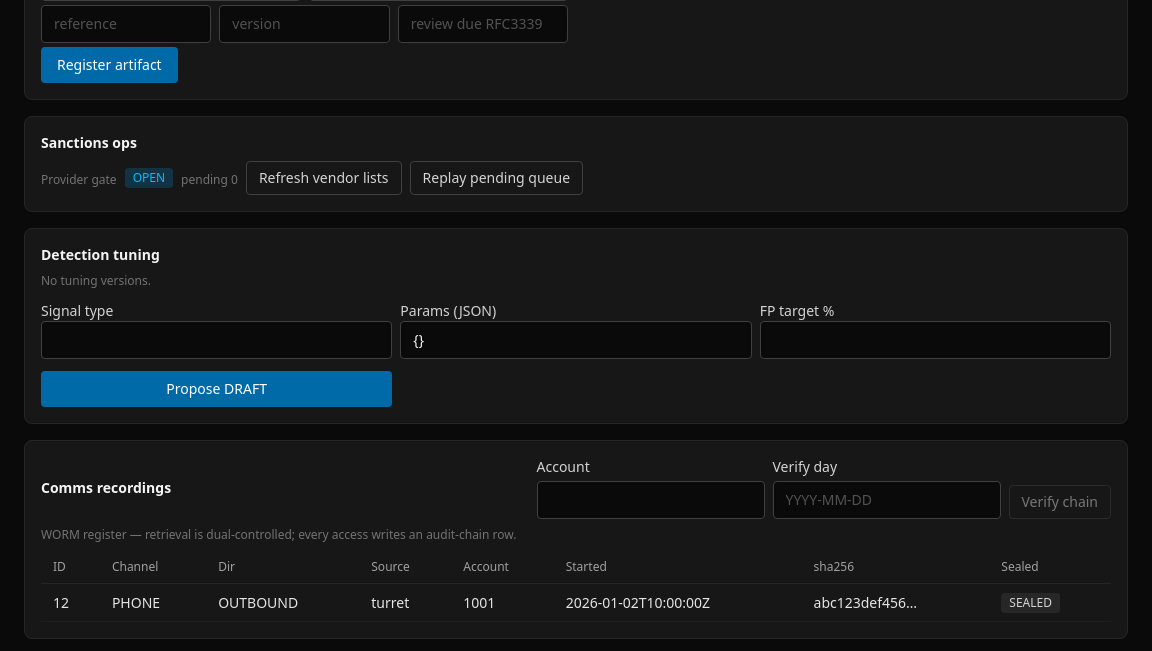
Test: CaseDeskPage › retrieves a comms recording under dual control
(page scrolled)
Click the text "PHONE" at (153, 602), box [100,584,206,622]
(page scrolled)
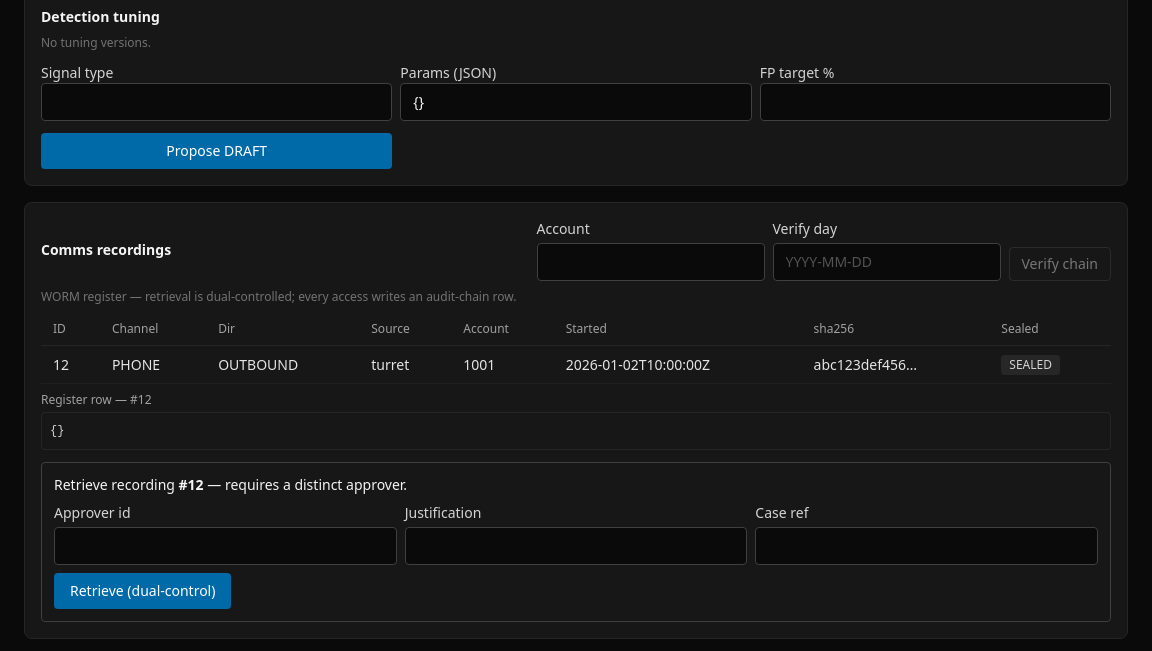
Type "77" into the field labelled "Approver id" at (225, 546), box [54,527,397,565]
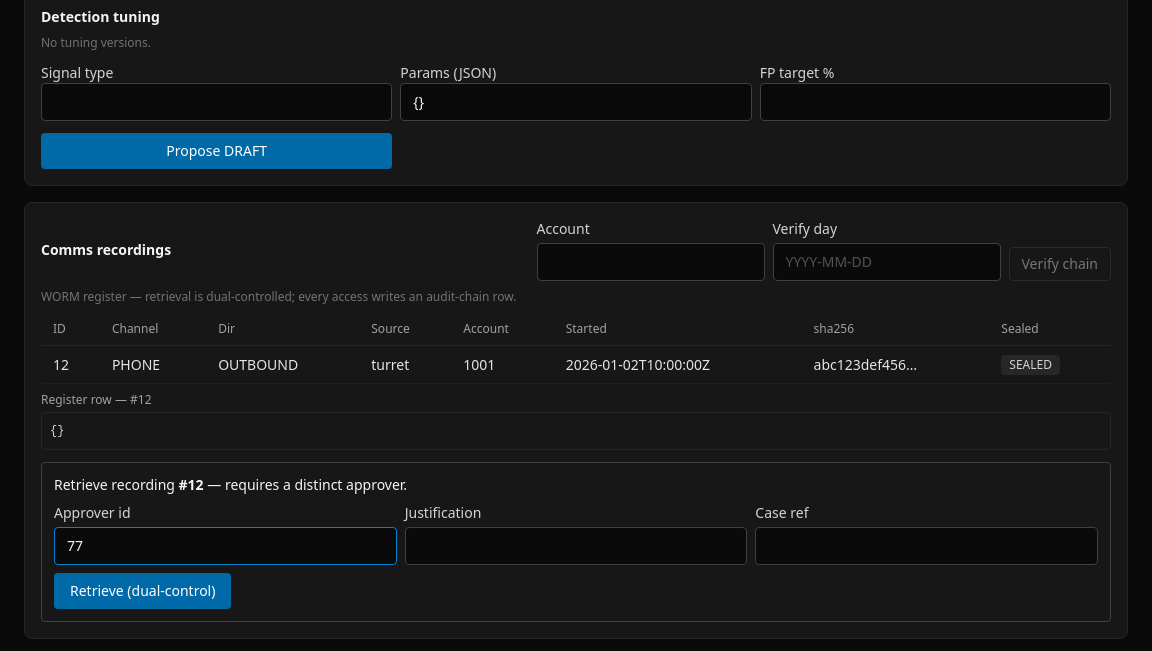
Type "case CASE-9 review" into the field labelled "Justification" at (576, 546), box [405,527,747,565]
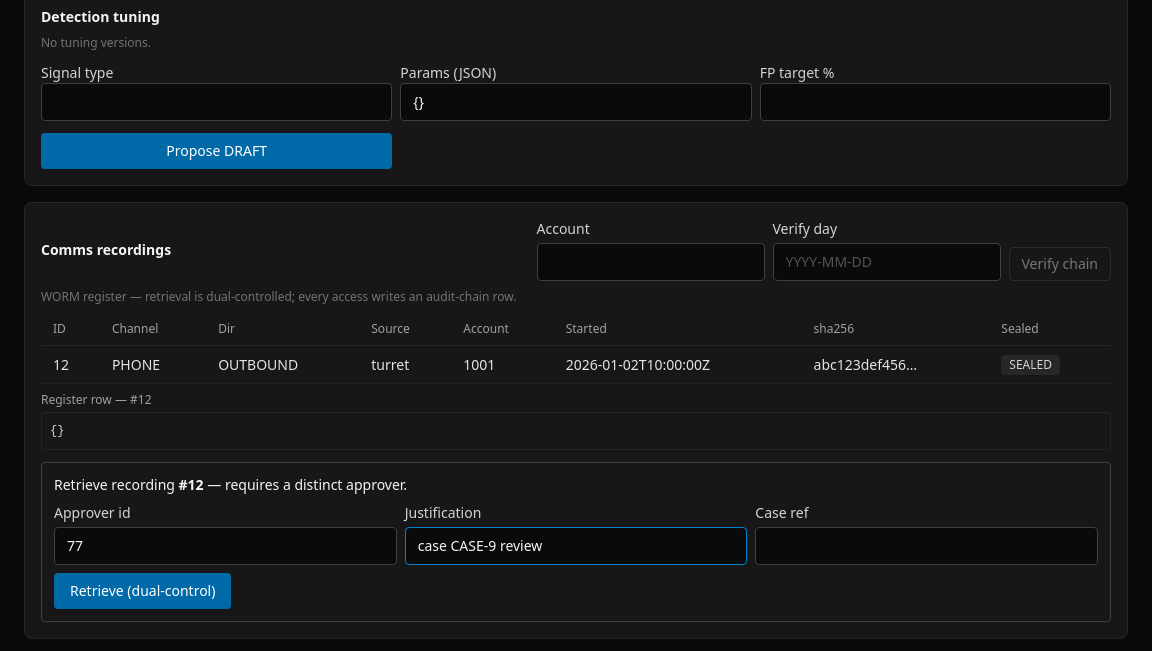
Click the button "Retrieve (dual-control)" at (143, 591), box [54,573,231,609]
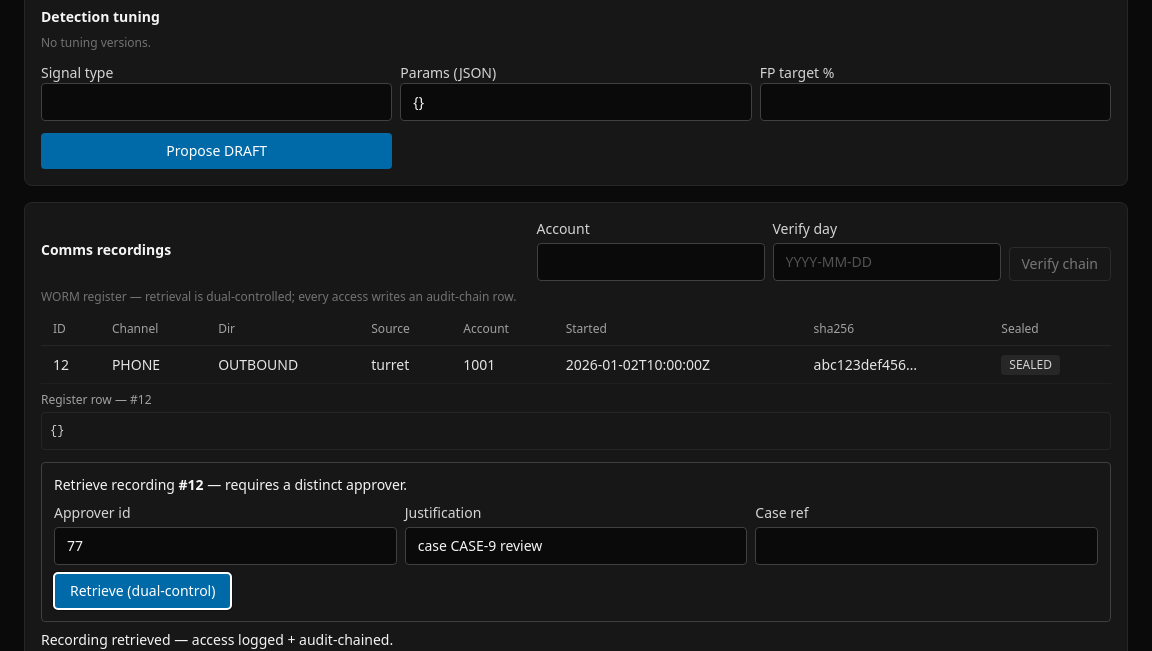
Type "2026-01-02" into the field labelled "Verify day" at (886, 262), box [772,243,1000,281]
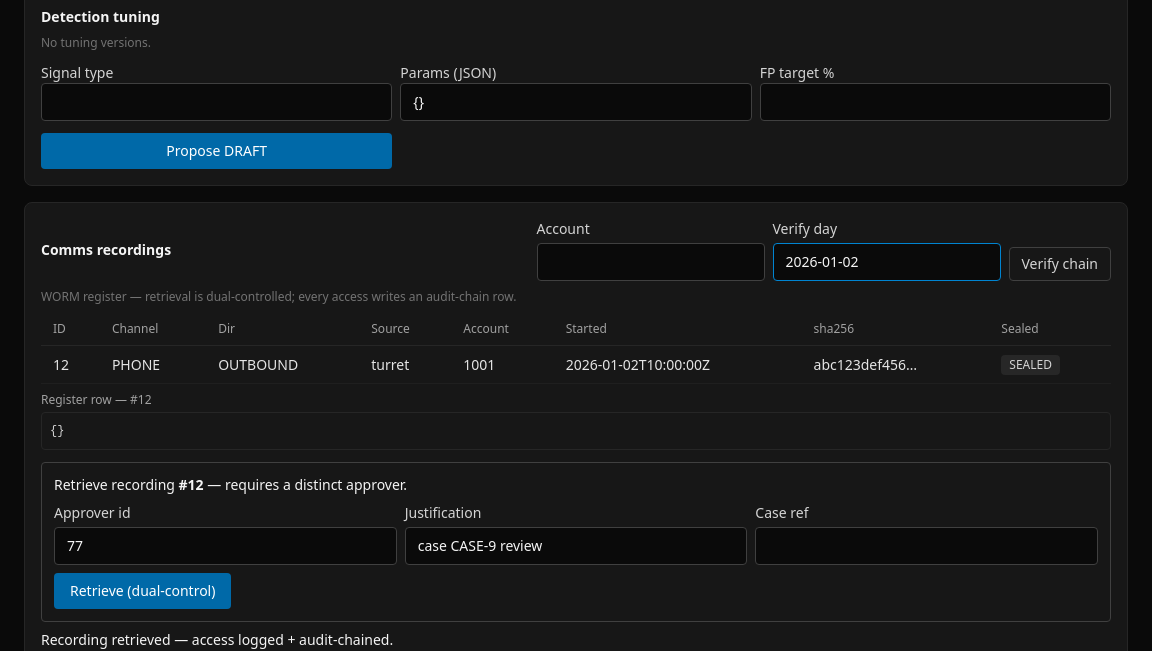
Click the button "Verify chain" at (1060, 264), box [1008,247,1111,281]
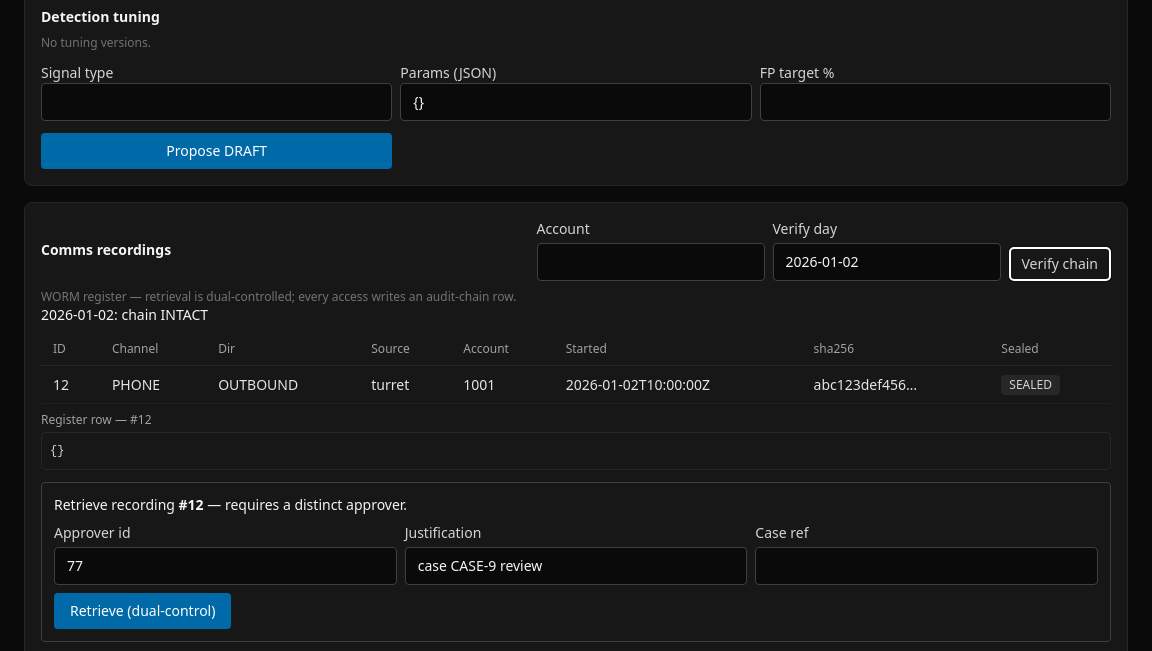
Now the text "2026-01-02: chain INTACT" is shown, box [41,305,208,324]
